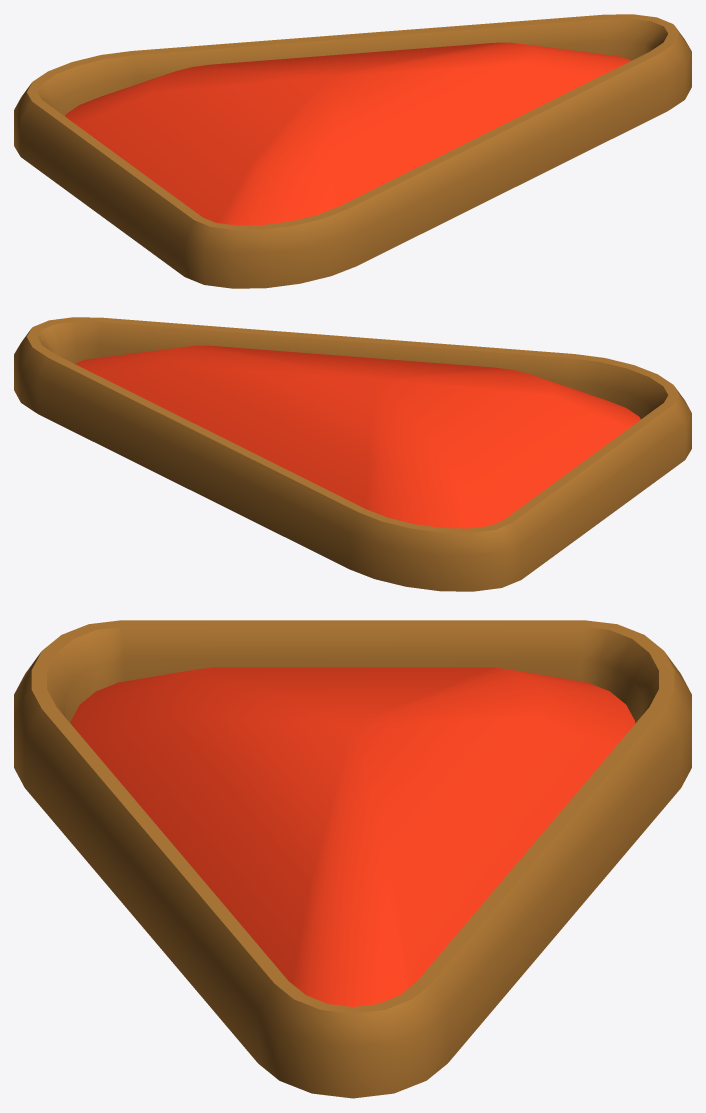
File: arrow-lens.dae
3 renders of one model, top to bottom at view 1: azimuth 30°, elevation 25°; view 2: azimuth 150°, elevation 25°; view 3: azimuth 270°, elevation 25°, orthographic. The views are drawn at different scales.
Parts seen in each view (by area): view 1: accent, sling_lens; view 2: accent, sling_lens; view 3: sling_lens, accent.
Boxes of the visible parts, box(x1,y1,x2,y2) form: accent: box(14, 14, 691, 288); sling_lens: box(65, 42, 630, 225); accent: box(14, 317, 691, 591); sling_lens: box(75, 345, 640, 528); sling_lens: box(70, 667, 635, 1006); accent: box(14, 620, 691, 1098).
Size of the model in its own units: 1.71 by 0.24 by 1.2.
